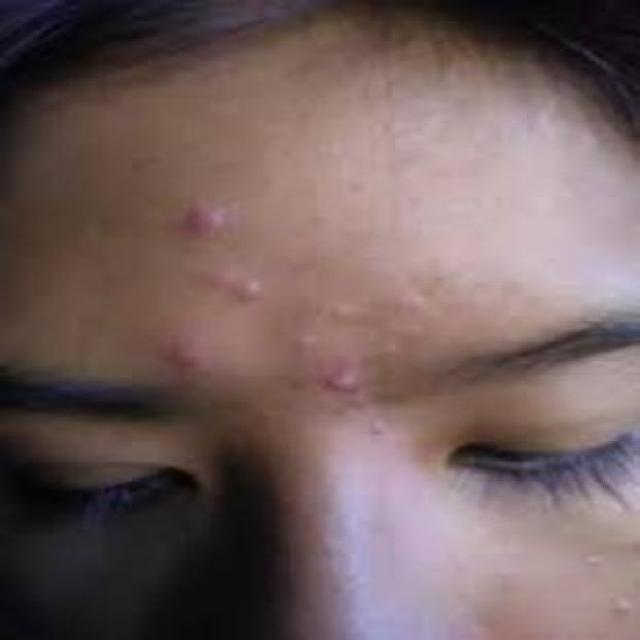nodules: (169, 198, 259, 250), (158, 329, 224, 378), (224, 264, 280, 310), (317, 362, 374, 403)
